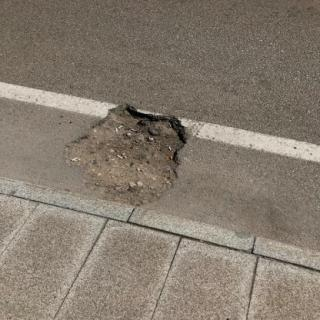pothole: (66, 105, 187, 207)
